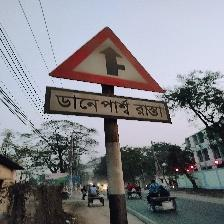Side-road-right: (46, 26, 169, 125)
